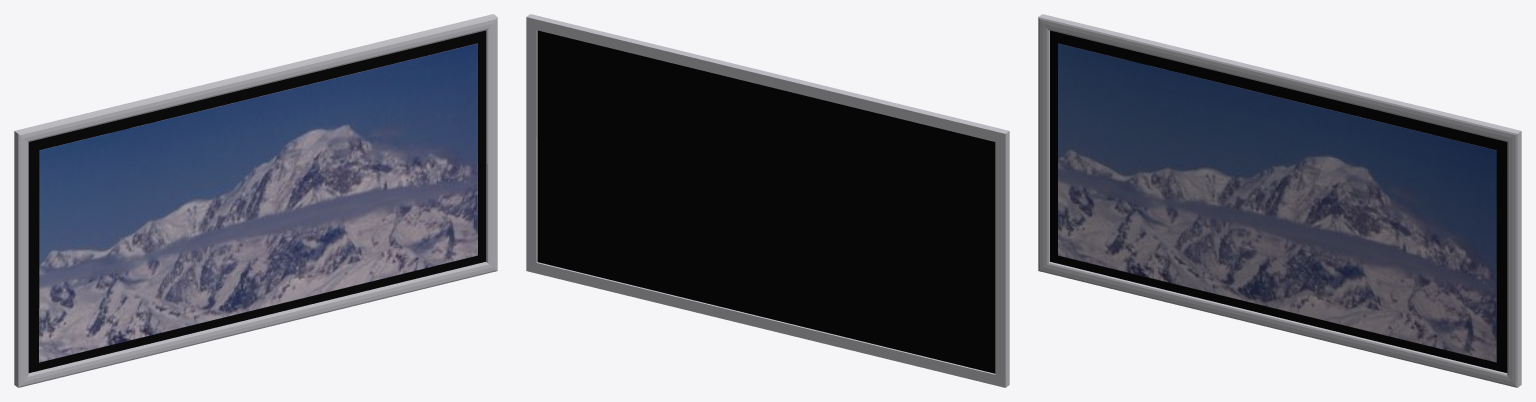
Rendered from sweethome3d-contributions-frame-mont-blanc.glb.
The picture shows the model from 3 angles, left to right: view 1: azimuth 30°, elevation 25°; view 2: azimuth 150°, elevation 25°; view 3: azimuth 330°, elevation 25°; orthographic projection.
Visible parts, largest first — view 1: Photo_Cube_Material_MontBlanc.jpg, MetalFrame_Cylinder_Aluminium.008, Frame_Black_Material.009; view 2: Frame_Black_Material.009, MetalFrame_Cylinder_Aluminium.008; view 3: Photo_Cube_Material_MontBlanc.jpg, MetalFrame_Cylinder_Aluminium.008, Frame_Black_Material.009.
Boxes of the visible parts, bbox=[...] form: Photo_Cube_Material_MontBlanc.jpg: bbox=[39, 43, 477, 362]; MetalFrame_Cylinder_Aluminium.008: bbox=[14, 14, 497, 387]; Frame_Black_Material.009: bbox=[28, 30, 485, 372]; Frame_Black_Material.009: bbox=[537, 30, 995, 373]; MetalFrame_Cylinder_Aluminium.008: bbox=[526, 14, 1009, 387]; Photo_Cube_Material_MontBlanc.jpg: bbox=[1058, 43, 1496, 362]; MetalFrame_Cylinder_Aluminium.008: bbox=[1038, 14, 1521, 387]; Frame_Black_Material.009: bbox=[1050, 30, 1507, 372].
Size of the model in its own units: 94.47 by 47.86 by 1.6.
Materials: 3 (1 with a texture image).
